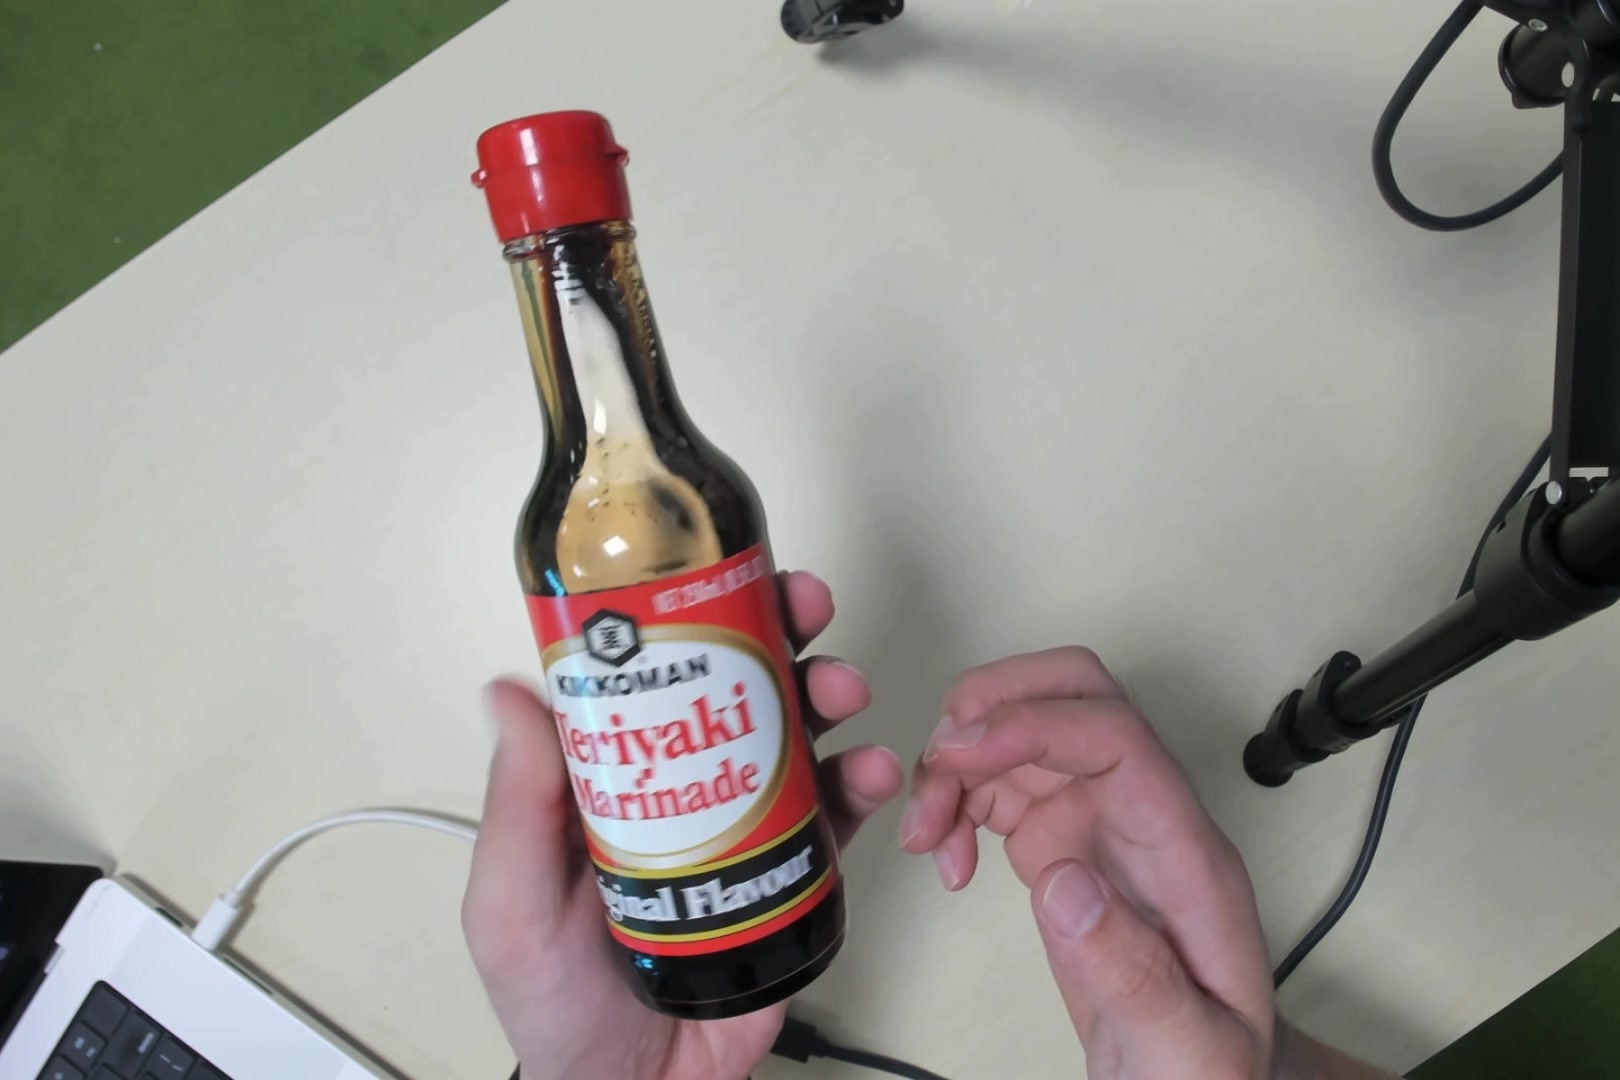OtherSauceDressingSoupbasePaste_200-299g_NonHalal_NonHealthy: (479, 119, 834, 958)
